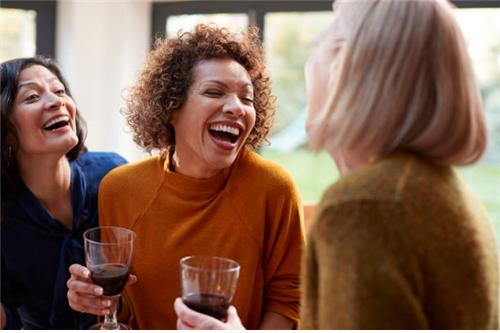alcohol: (82, 225, 134, 327), (178, 252, 240, 322)
